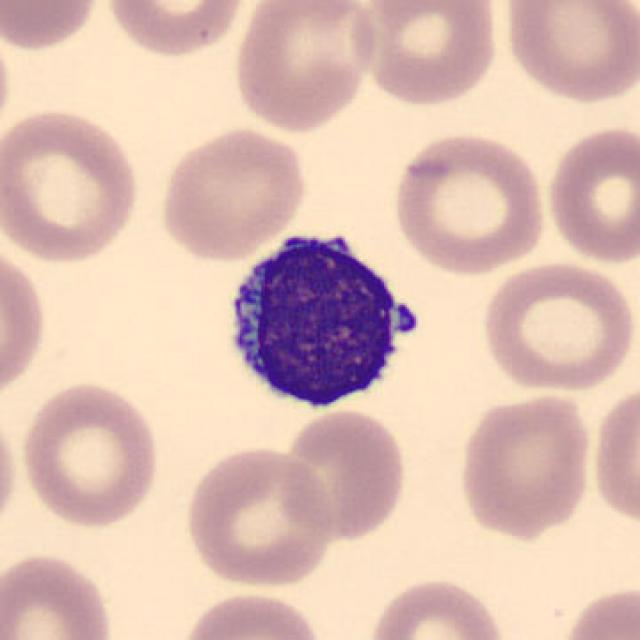Lymphocyte: (210, 215, 434, 421)
RBC: (388, 129, 551, 277), (180, 440, 338, 590), (0, 102, 144, 266), (16, 377, 164, 531), (474, 257, 636, 395), (155, 123, 311, 263), (455, 390, 596, 541), (231, 0, 379, 136), (277, 406, 411, 543), (352, 0, 501, 108), (498, 0, 638, 106), (542, 120, 638, 268), (0, 548, 119, 640), (364, 573, 510, 640), (101, 0, 251, 60), (0, 236, 50, 409), (174, 587, 327, 640), (588, 377, 638, 531), (0, 0, 105, 55), (555, 580, 638, 640), (0, 400, 23, 541), (0, 18, 14, 154)
